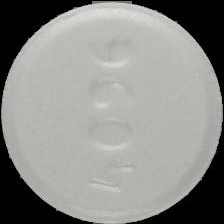76237-117: (0, 0, 224, 224)
